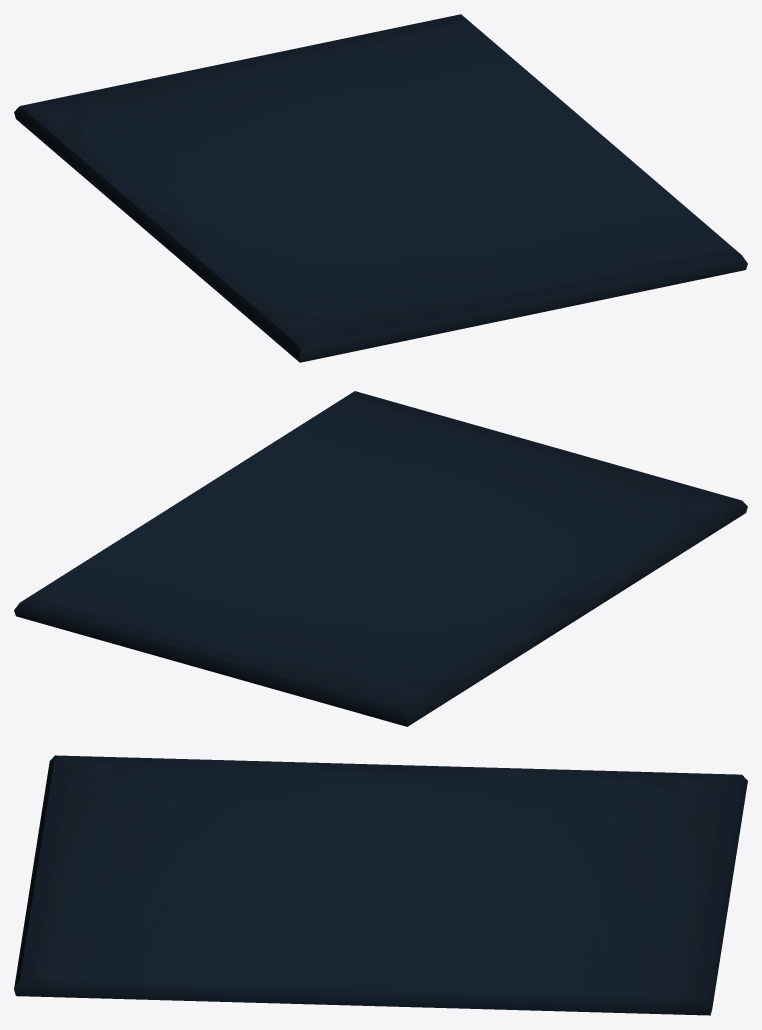
File: Lid.fbx
3 renders of one model, top to bottom at view 1: azimuth 30°, elevation 25°; view 2: azimuth 150°, elevation 25°; view 3: azimuth 270°, elevation 25°, orthographic. The views are drawn at different scales.
Parts seen in each view (by area): view 1: Lid4; view 2: Lid4; view 3: Lid4.
Part boxes in pixels (x1,y1,x2,y2): Lid4: (14,14,747,362); Lid4: (14,391,747,726); Lid4: (14,755,747,1015).
Bounding box in the file's own units: 4.21 × 0.1189 × 5.27.
